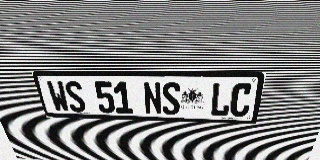1: (112, 81, 133, 114)
5: (93, 81, 116, 113)
C: (229, 83, 253, 117)
L: (210, 82, 232, 116)
N: (143, 82, 162, 114)
S: (63, 81, 87, 112), (162, 82, 180, 115)
W: (46, 81, 71, 112)
